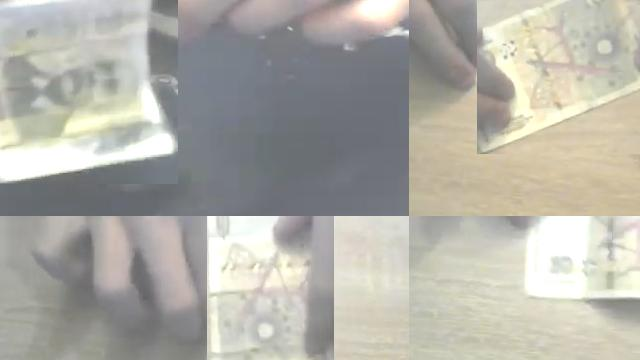10leva: (208, 216, 310, 360)
